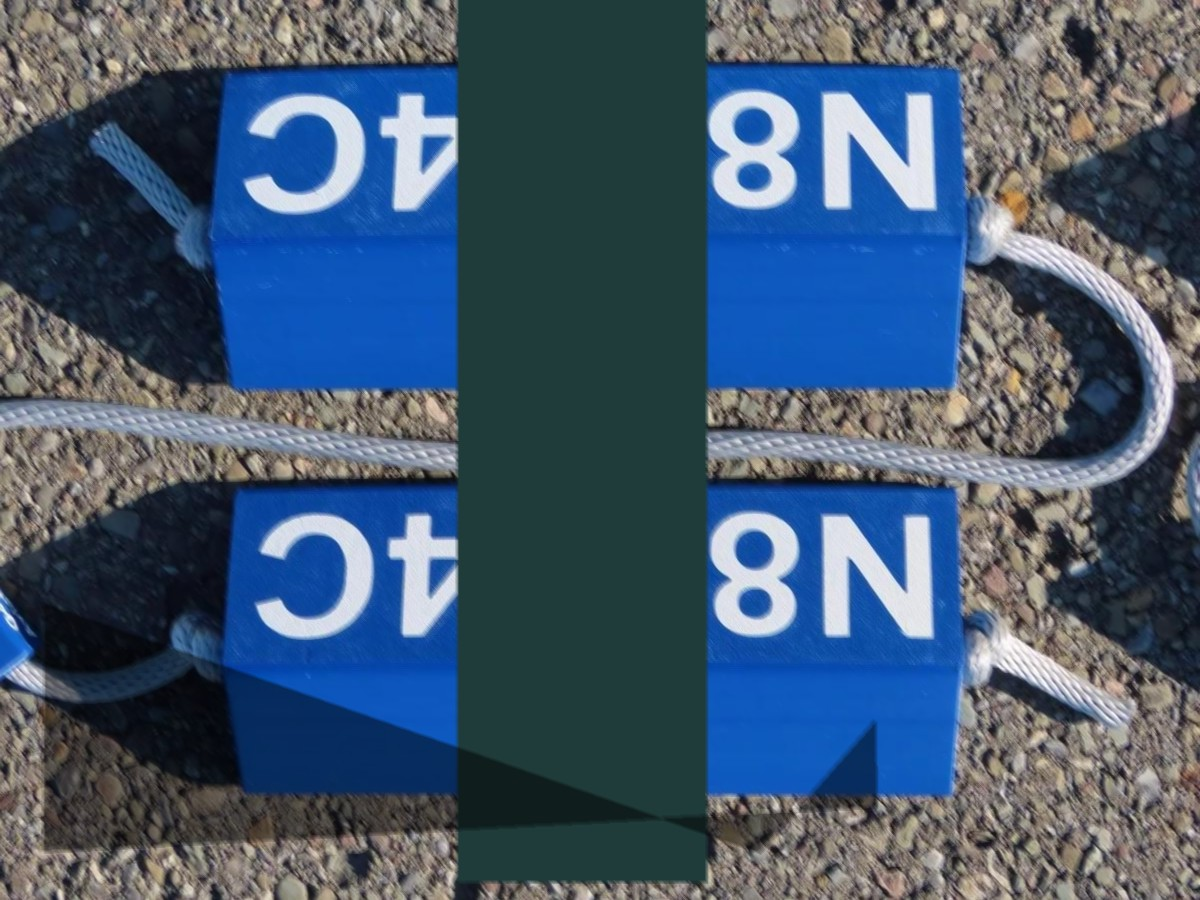chock: (212, 61, 971, 400), (229, 480, 969, 805)
